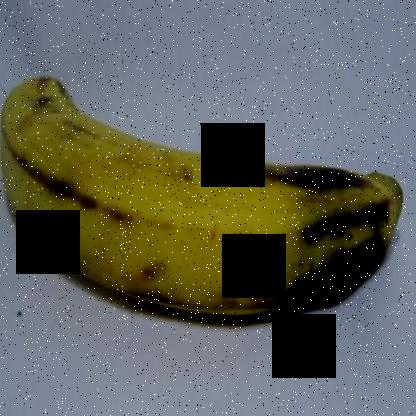ripe: (2, 55, 409, 330)
